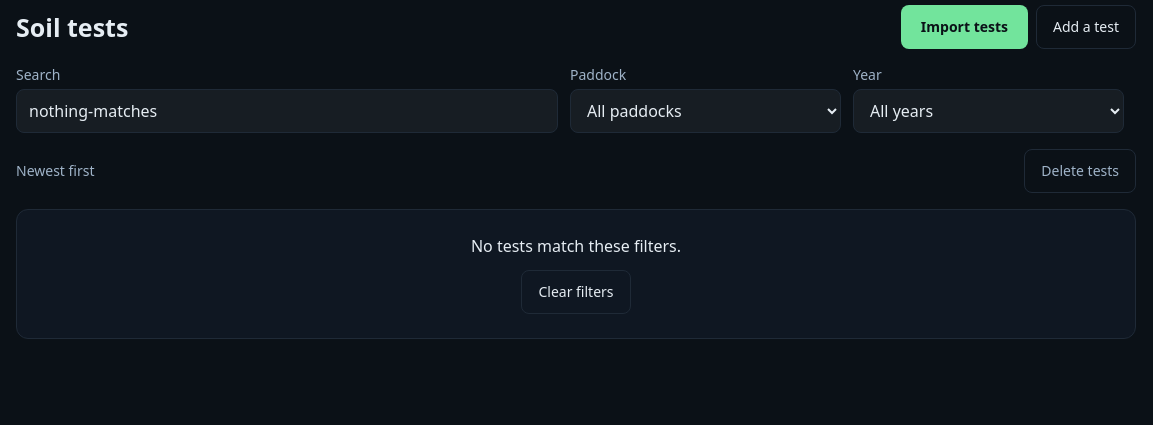
Scenario: soil tests page on a desktop › explains an empty result and clears the filters
What coordinates should you click on to do the following:
click the button "Clear filters"
I would click on:
 (576, 292)
Its box is [521,270,630,314].
(page scrolled)
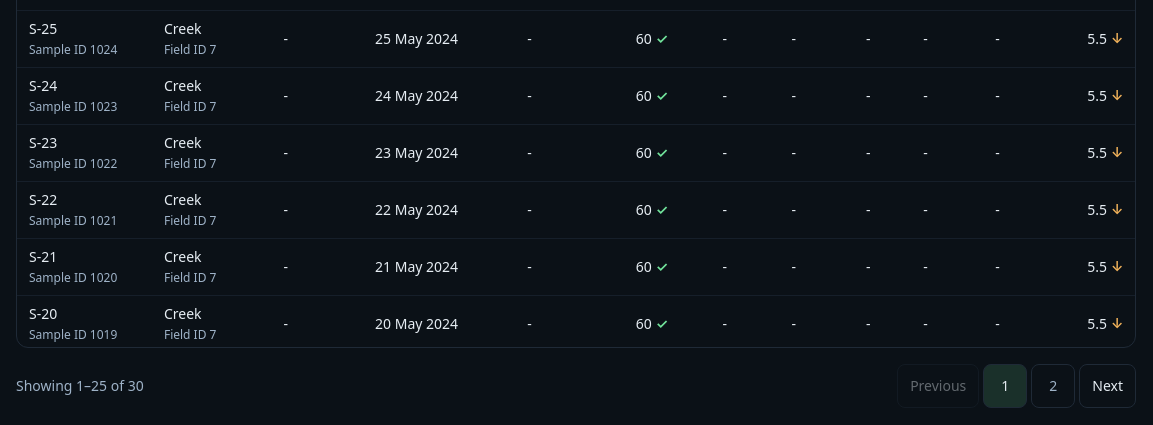
Expected: the text "Showing 1–25 of 30" is shown, [16,376,144,396]
